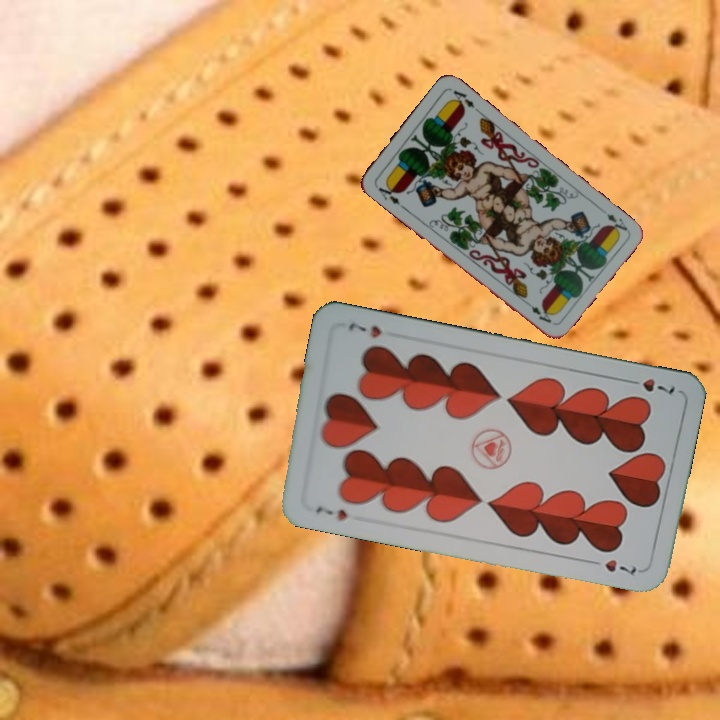EA: (371, 179, 402, 208), (602, 209, 630, 236)
H7: (621, 374, 677, 397), (311, 502, 350, 523)
